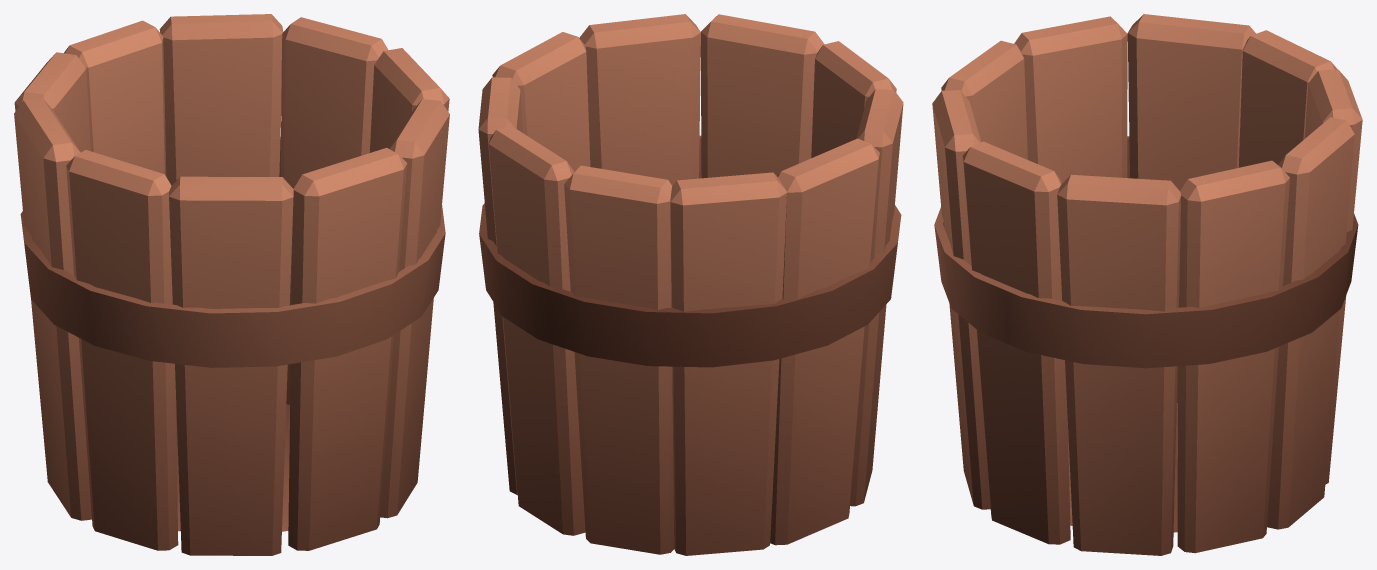
Rendered from Tacho.fbx.
The picture shows the model from 3 angles, left to right: view 1: azimuth 30°, elevation 25°; view 2: azimuth 150°, elevation 25°; view 3: azimuth 270°, elevation 25°; orthographic projection.
Parts seen in each view (by area): view 1: Tacho; view 2: Tacho; view 3: Tacho.
Boxes of the visible parts, left/top/right/bottom form: Tacho: left=14, top=14, right=449, bottom=555; Tacho: left=478, top=14, right=903, bottom=555; Tacho: left=932, top=14, right=1362, bottom=555.
Size of the model in its own units: 1.57 by 1.5 by 1.56.
